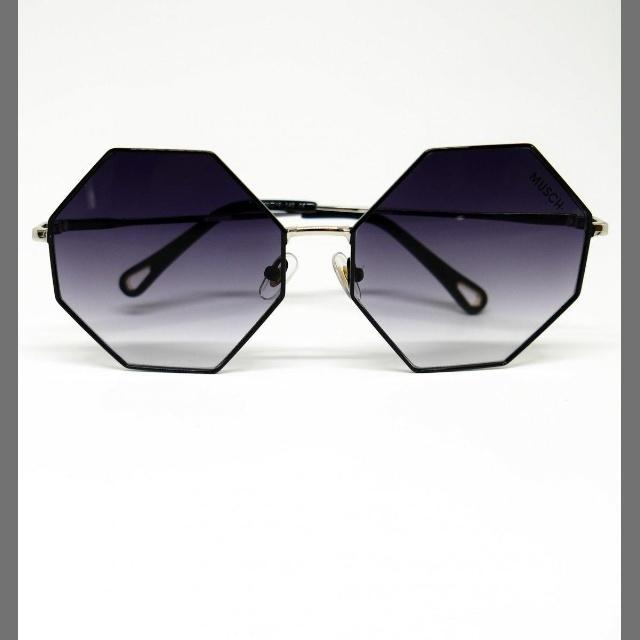Sunglasses: (19, 96, 621, 434)
